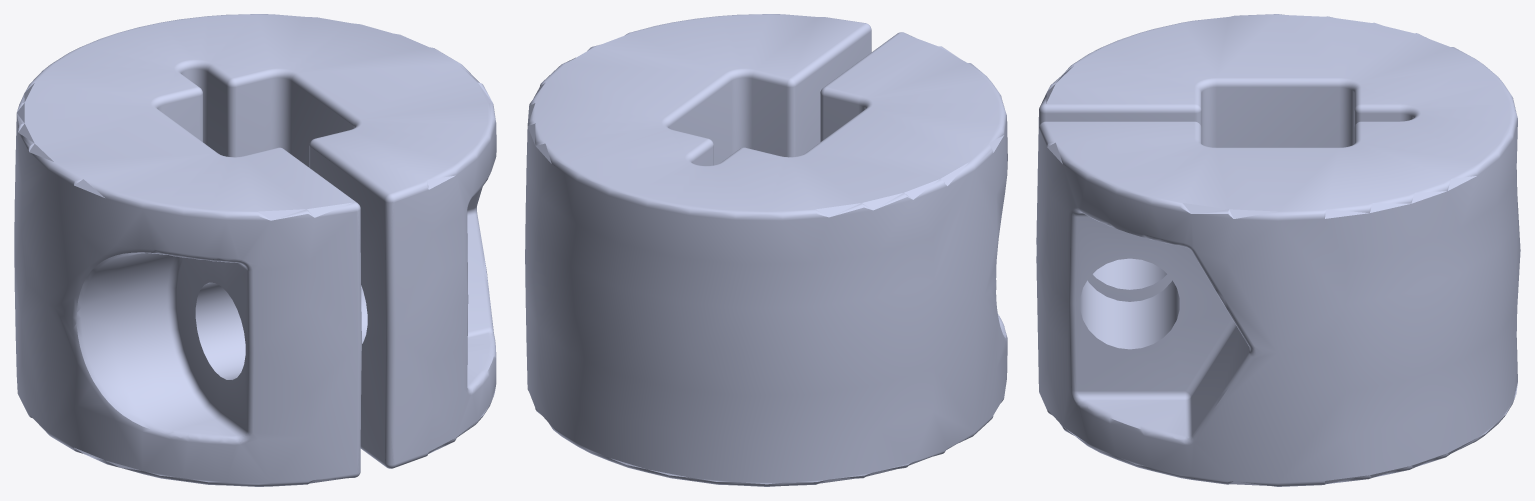
Rendered from high-strength-clamping-shaft-collar.glb.
3 views of the same model, side by side, from view 1: azimuth 30°, elevation 25°; view 2: azimuth 150°, elevation 25°; view 3: azimuth 270°, elevation 25° (orthographic).
Visible parts, largest first — view 1: 276-3520-001 Rev2; view 2: 276-3520-001 Rev2; view 3: 276-3520-001 Rev2.
Boxes of the visible parts, bbox=[...] form: 276-3520-001 Rev2: bbox=[14, 14, 496, 486]; 276-3520-001 Rev2: bbox=[525, 14, 1007, 486]; 276-3520-001 Rev2: bbox=[1036, 14, 1520, 486].
Size of the model in its own units: 0.0203 by 0.0127 by 0.0203.
